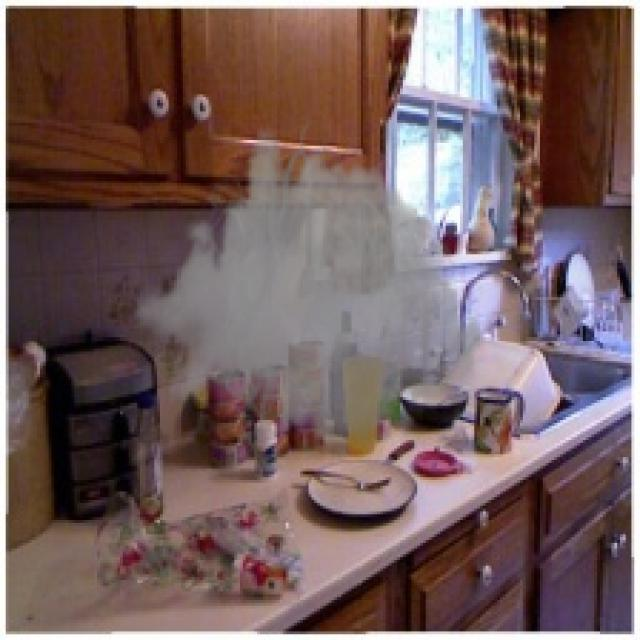smoke: (131, 114, 486, 489)
